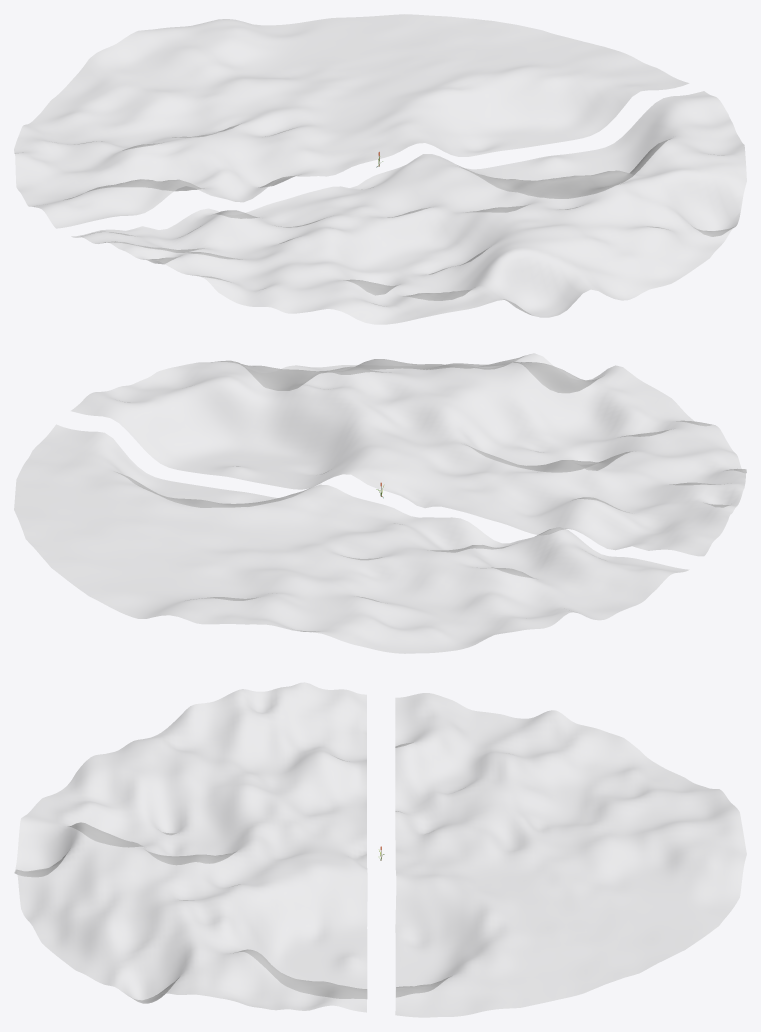
File: cattail.glb
The picture shows the model from 3 angles, top to bottom: view 1: azimuth 30°, elevation 25°; view 2: azimuth 150°, elevation 25°; view 3: azimuth 270°, elevation 25°; orthographic projection.
Parts seen in each view (by area): view 1: cloneTargetIn, cloneTargetOut; view 2: cloneTargetOut, cloneTargetIn; view 3: cloneTargetOut, cloneTargetIn.
Part boxes in pixels (<box>): cloneTargetIn: <box>14,14,688,228</box>; cloneTargetOut: <box>71,91,746,324</box>; cloneTargetOut: <box>71,353,746,556</box>; cloneTargetIn: <box>14,424,688,653</box>; cloneTargetOut: <box>14,682,367,1012</box>; cloneTargetIn: <box>395,693,746,1017</box>.
Bounding box in the file's own units: 59.64 × 5.75 × 59.86.
5 materials, 4 textured.
